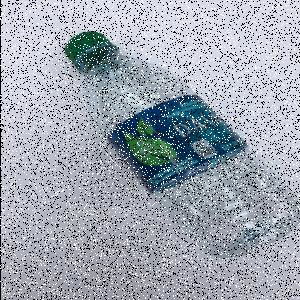Plastic-bottle: (64, 31, 300, 261)
